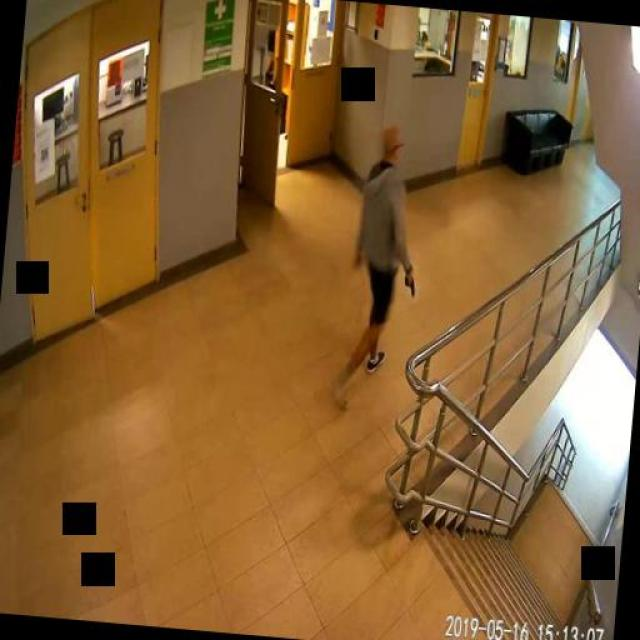gun: (403, 268, 415, 294)
